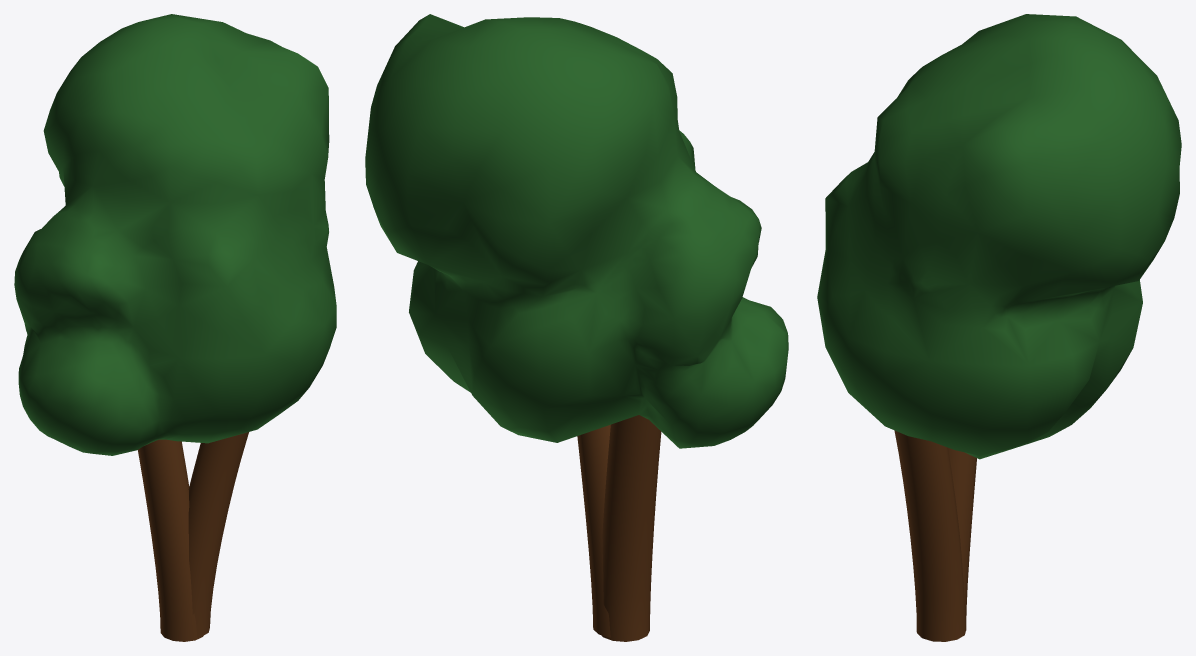
The model's file is trees_Tree_02.fbx.
3 renders of one model, left to right at view 1: azimuth 30°, elevation 25°; view 2: azimuth 150°, elevation 25°; view 3: azimuth 270°, elevation 25°, orthographic. The views are drawn at different scales.
Parts seen in each view (by area): view 1: Icosphere.001, BezierCurve; view 2: Icosphere.001, BezierCurve; view 3: Icosphere.001, BezierCurve.
Boxes of the visible parts, <box> form: Icosphere.001: <box>14,14,336,455</box>; BezierCurve: <box>138,432,248,641</box>; Icosphere.001: <box>365,14,788,448</box>; BezierCurve: <box>577,415,661,641</box>; Icosphere.001: <box>817,14,1181,459</box>; BezierCurve: <box>894,430,976,641</box>.
Bounding box in the file's own units: 4.86 × 8.29 × 4.4.
